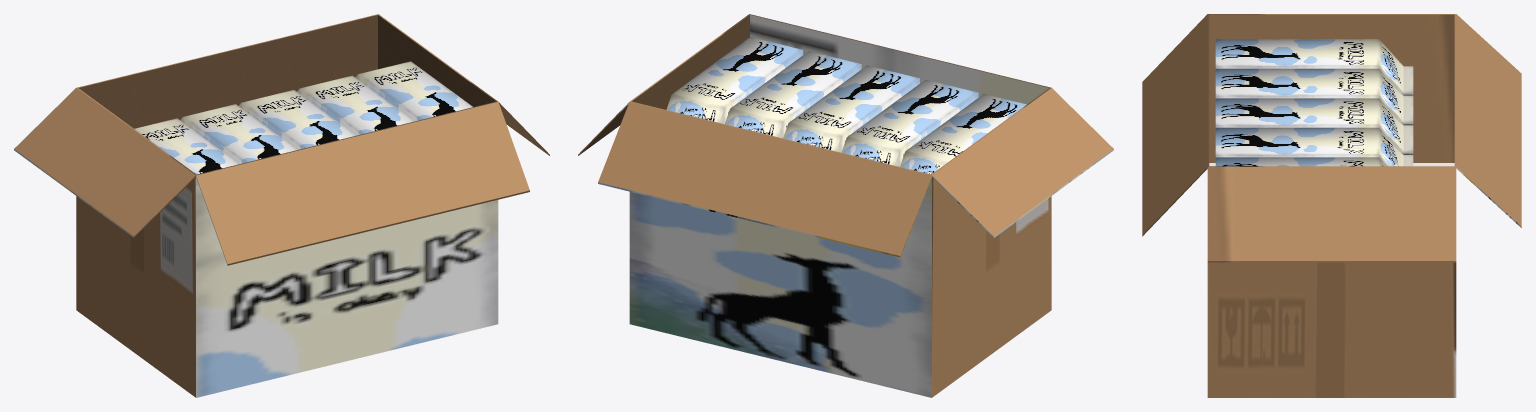
File: susu-karton0.fbx
The picture shows the model from 3 angles, left to right: view 1: azimuth 30°, elevation 25°; view 2: azimuth 150°, elevation 25°; view 3: azimuth 270°, elevation 25°; orthographic projection. The views are drawn at different scales.
Parts seen in each view (by area): view 1: CardboardBox1.010, milk.005; view 2: CardboardBox1.010, milk.005; view 3: CardboardBox1.010, milk.005.
Boxes of the visible parts, left/top/right/bottom form: CardboardBox1.010: left=14, top=14, right=549, bottom=397; milk.005: left=134, top=61, right=472, bottom=174; CardboardBox1.010: left=578, top=14, right=1113, bottom=397; milk.005: left=666, top=37, right=1026, bottom=174; CardboardBox1.010: left=1142, top=14, right=1521, bottom=397; milk.005: left=1215, top=39, right=1413, bottom=166.
Bounding box in the file's own units: 133 × 67.79 × 101.
